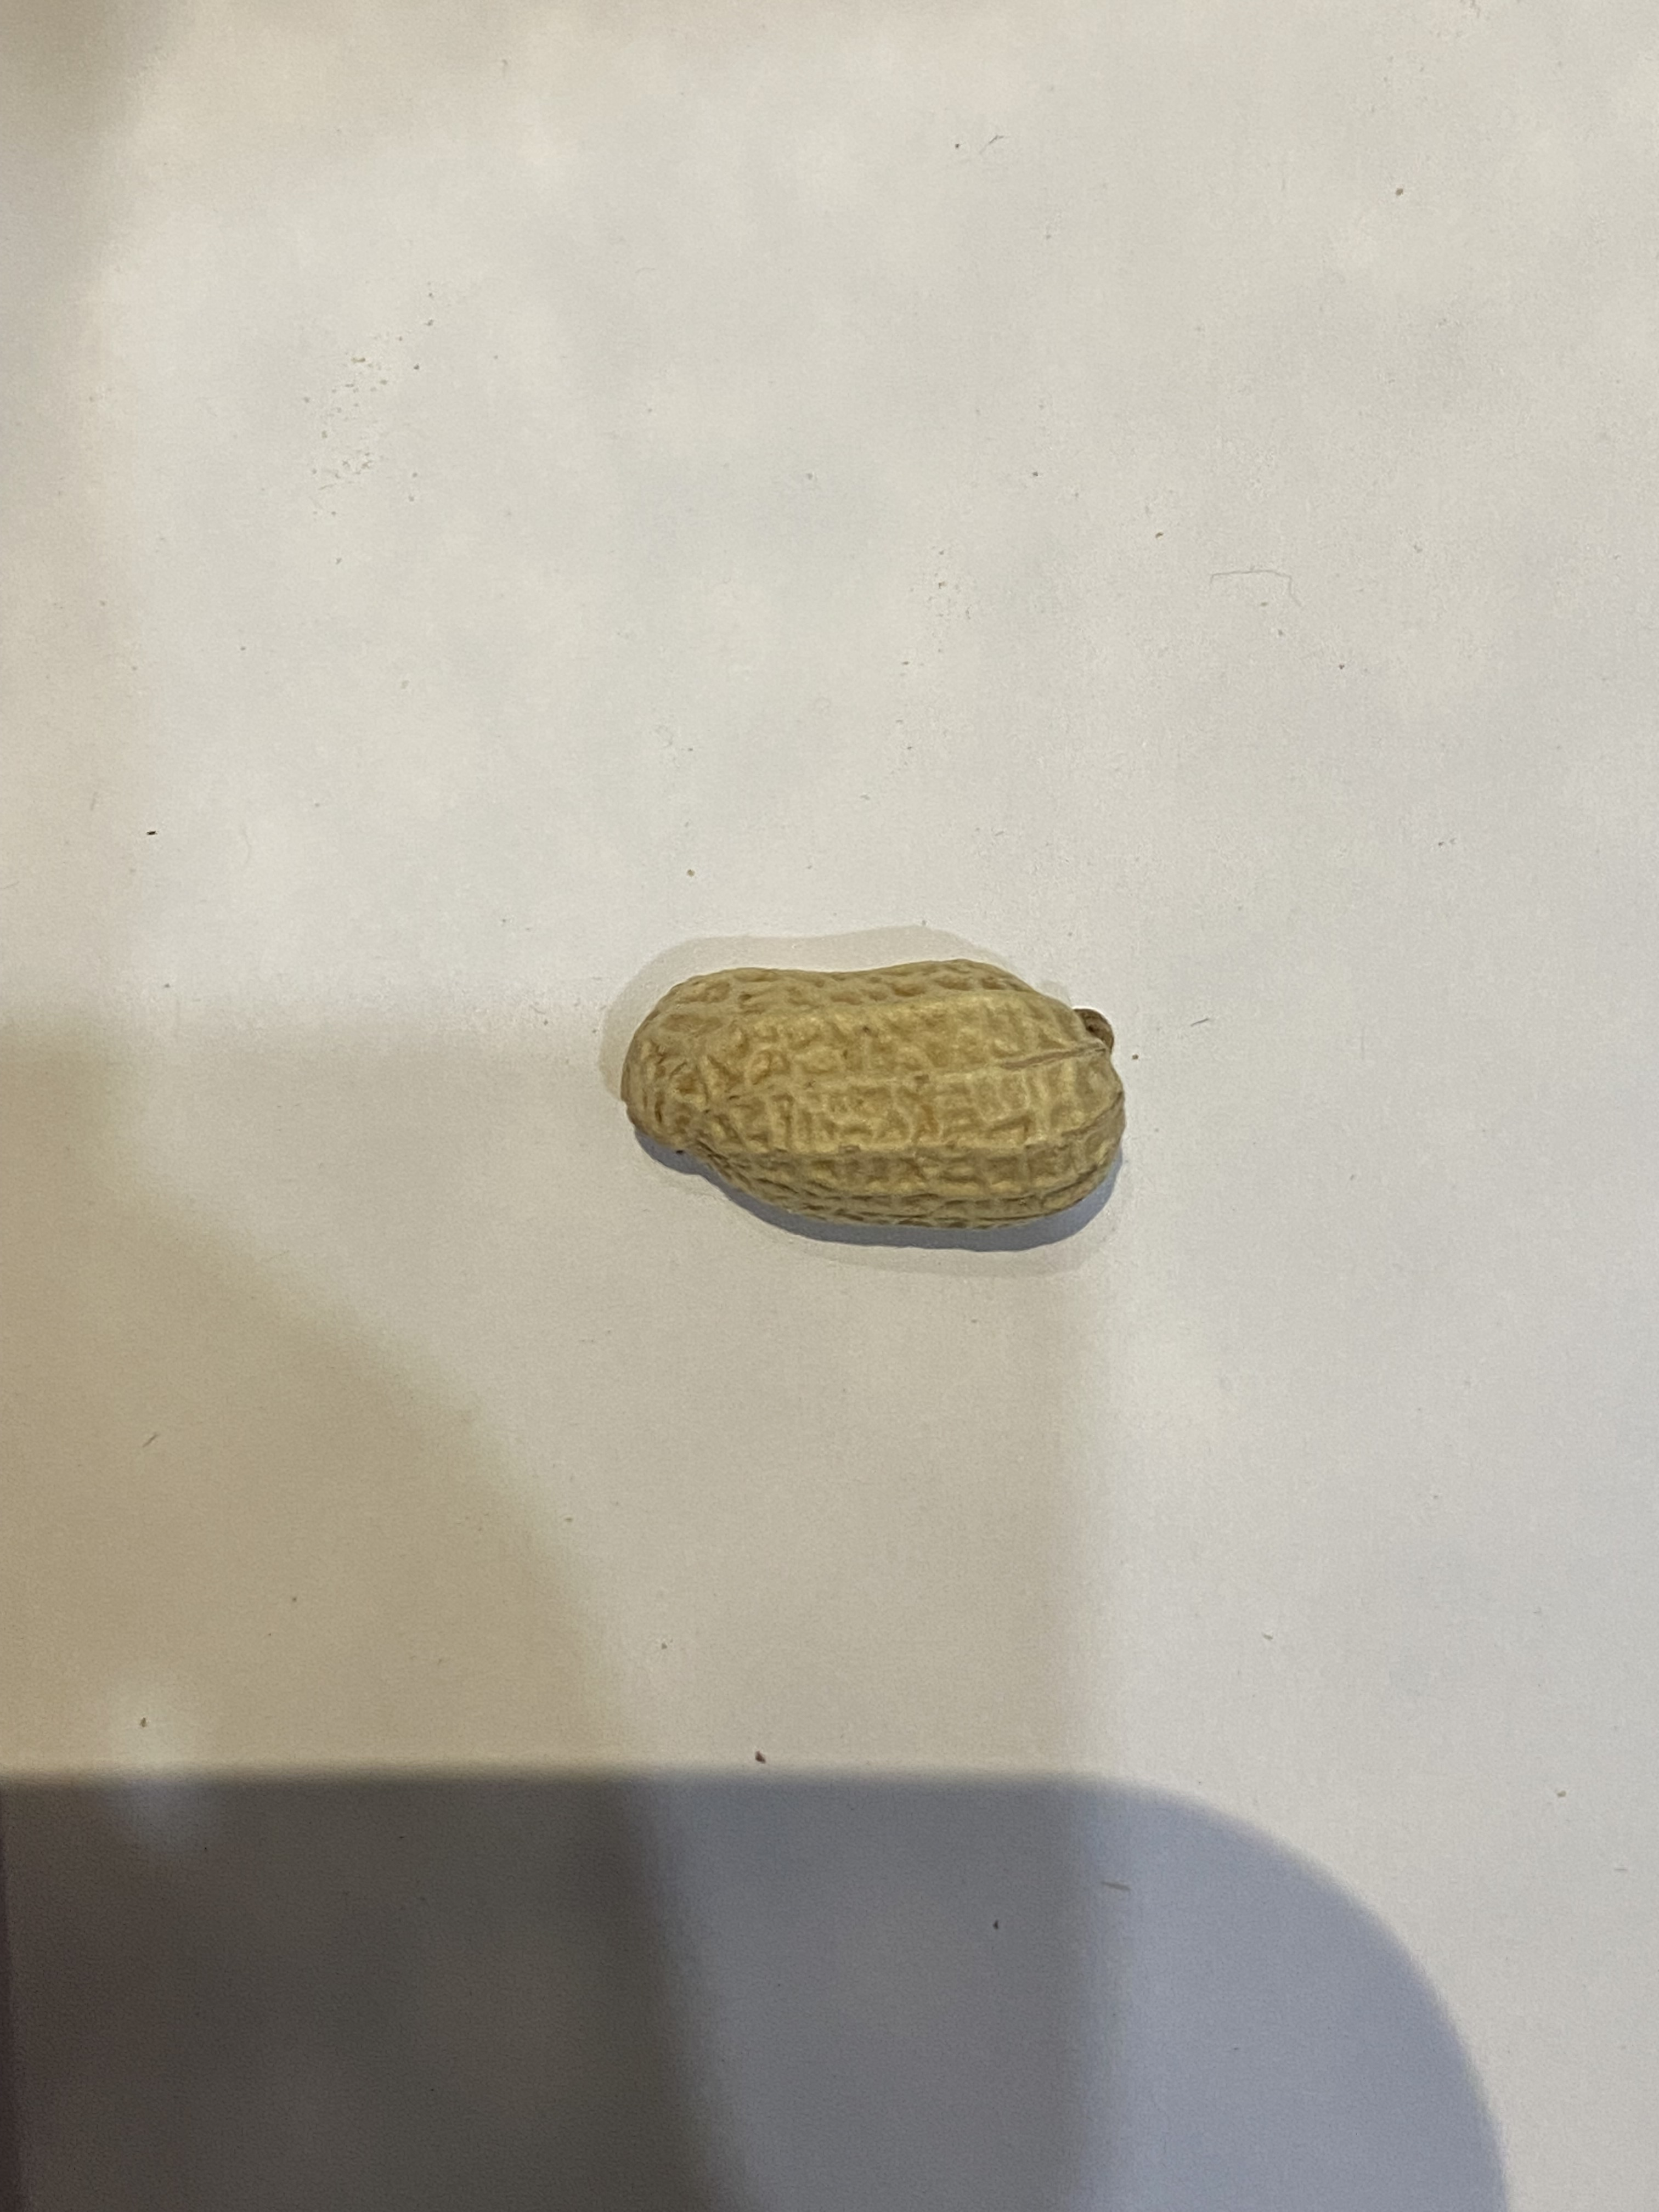kacang1: (594, 944, 1180, 1233)
